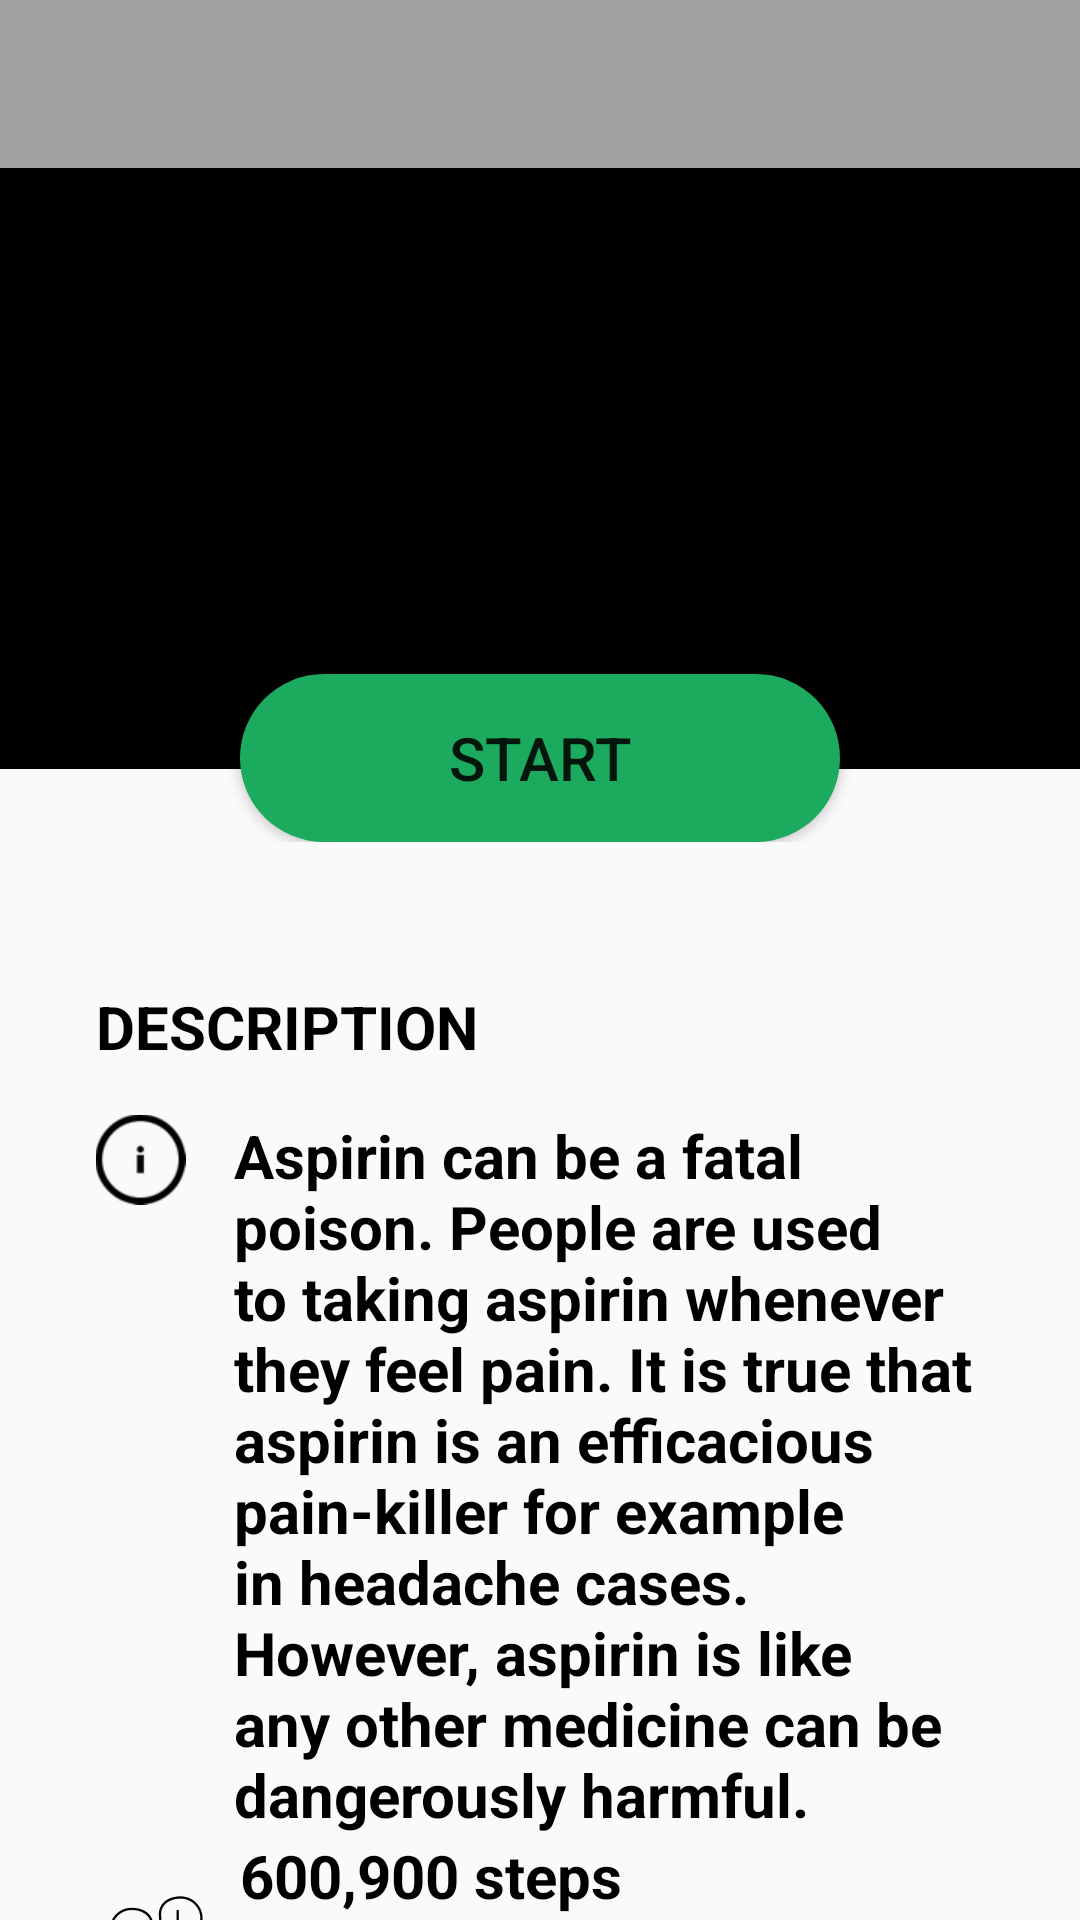

Icon click points for this 1080*1920 phone screenshot, format [x,y]:
info: [141,1160]
